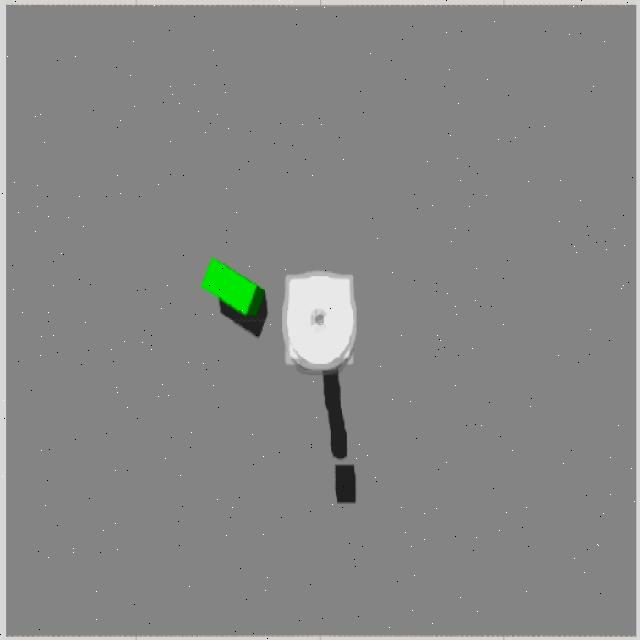box: (203, 260, 267, 336)
